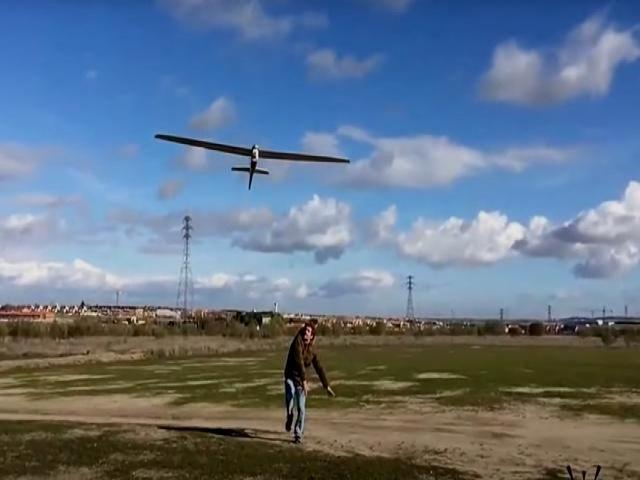iha: (152, 130, 350, 190)
